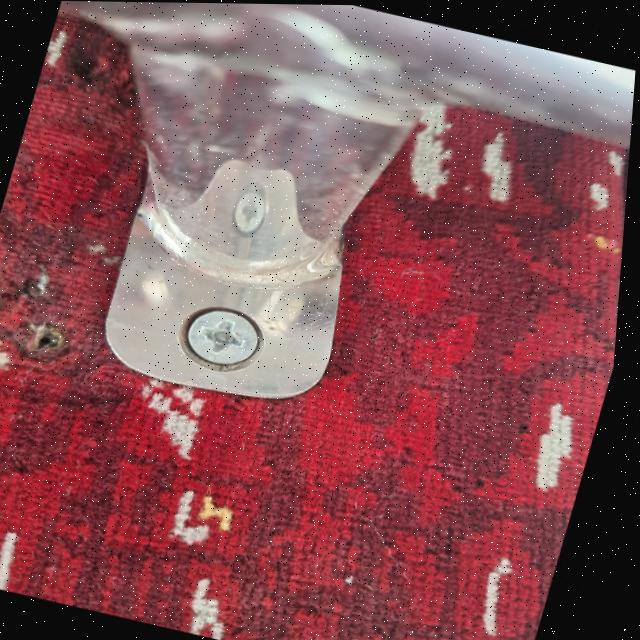Phillips: (175, 302, 271, 371)
